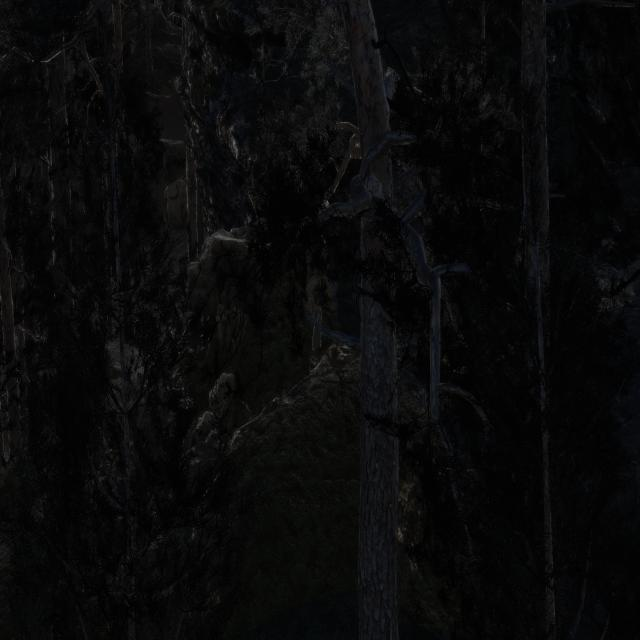Human: (300, 274, 332, 394)
